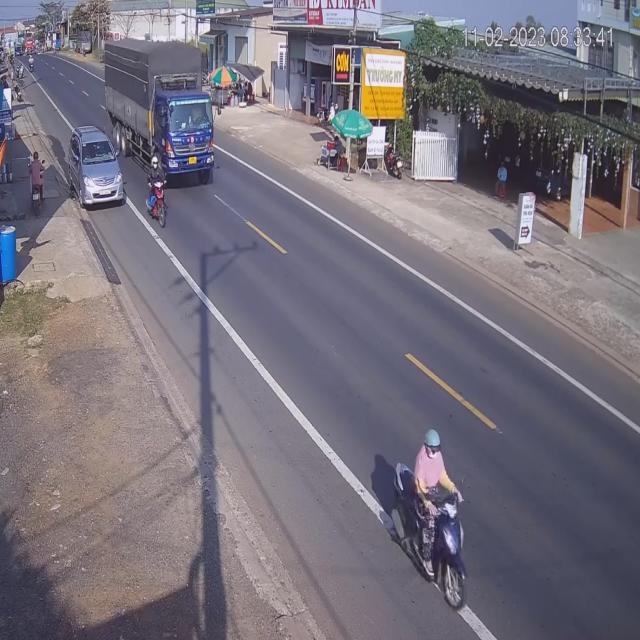car: (69, 125, 124, 208)
motorbike: (390, 429, 465, 606), (147, 154, 167, 228)
truck: (101, 40, 215, 190)
